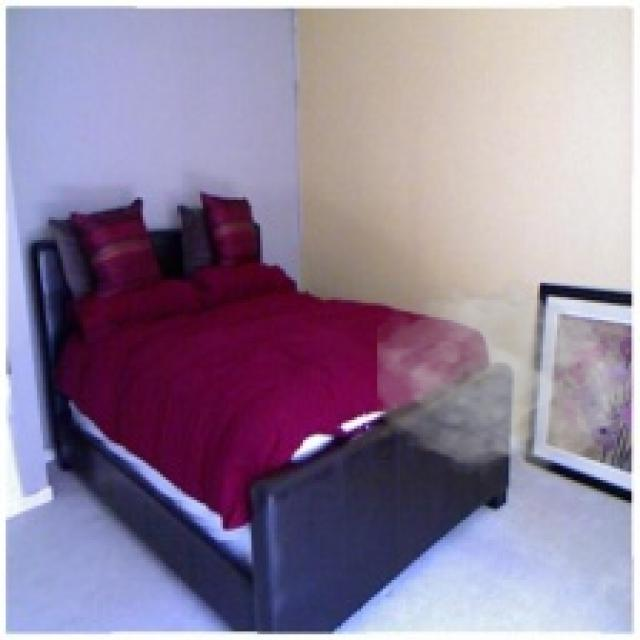smoke: (377, 277, 634, 480)
